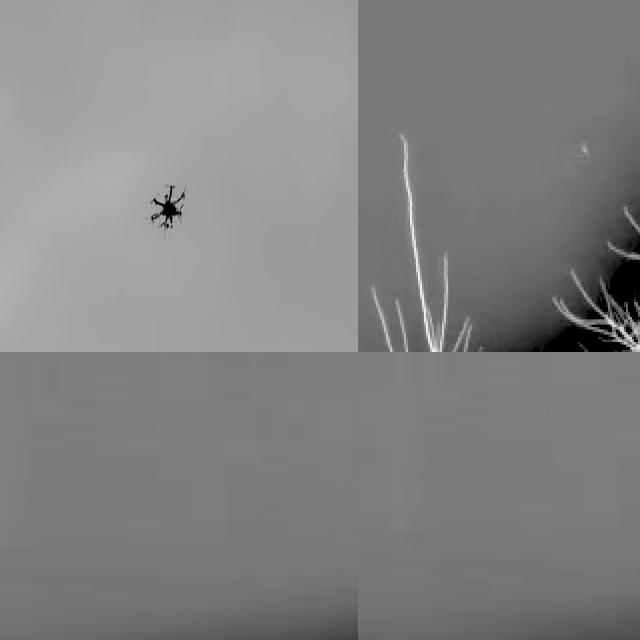0: (569, 136, 599, 166)
drone: (148, 175, 190, 236)
